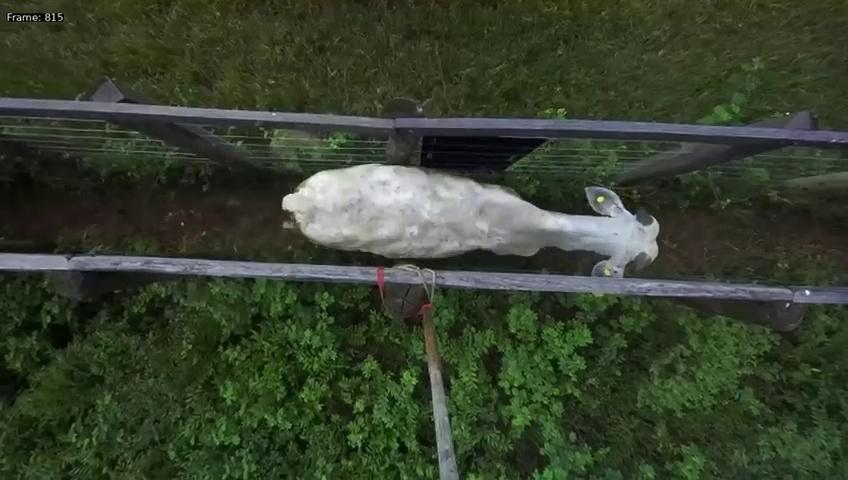cattle: (280, 128, 662, 277)
